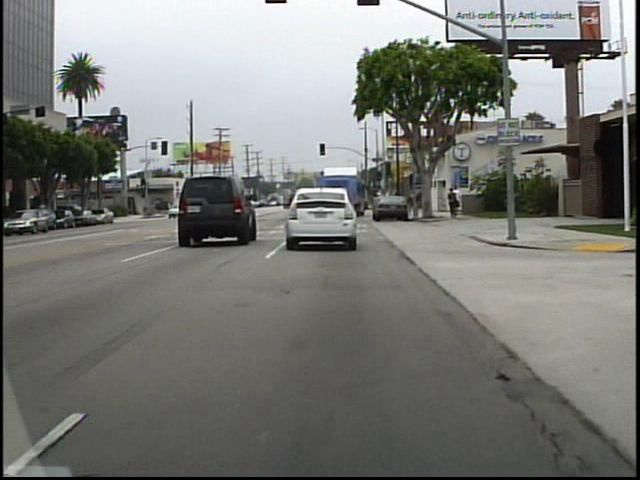person: (446, 186, 459, 221), (454, 184, 464, 217)
